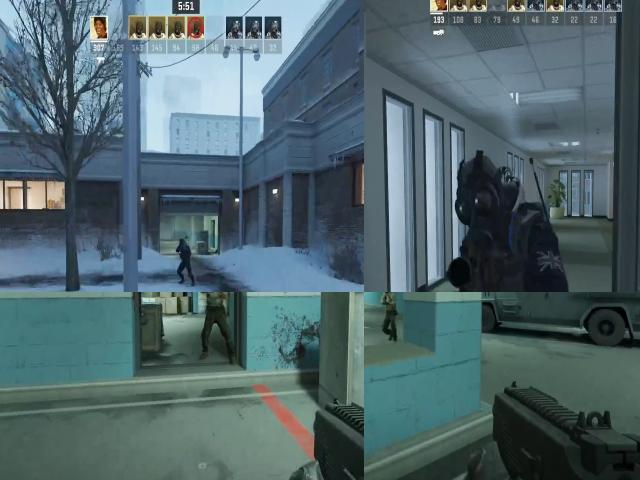CT: (444, 143, 570, 292), (176, 235, 192, 272)
CT-Head: (453, 153, 517, 257), (179, 237, 187, 250)
T: (202, 292, 226, 323), (379, 292, 398, 324)
T-Head: (381, 292, 393, 298)
